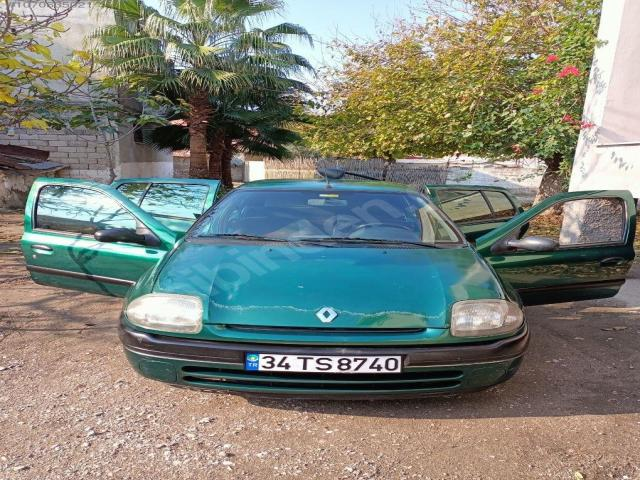plaka: (245, 353, 402, 373)
